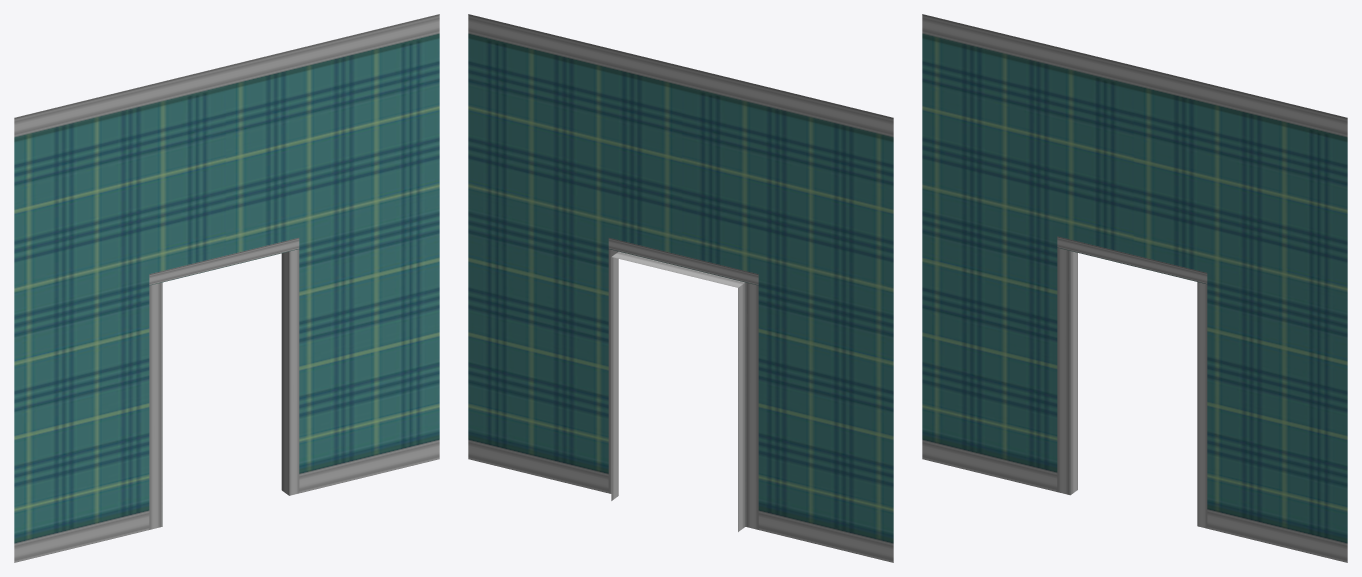
File: wall_doorway.fbx
3 views of the same model, side by side, from view 1: azimuth 30°, elevation 25°; view 2: azimuth 150°, elevation 25°; view 3: azimuth 330°, elevation 25° (orthographic).
Visible parts, largest first — view 1: wall_doorway; view 2: wall_doorway; view 3: wall_doorway.
Part boxes in pixels (x1=…): wall_doorway: x1=14, y1=14, x2=439, y2=562; wall_doorway: x1=468, y1=14, x2=893, y2=562; wall_doorway: x1=922, y1=14, x2=1347, y2=562.
Size of the model in its own units: 400 by 400 by 12.07.
Materials: 1 (1 with a texture image).
